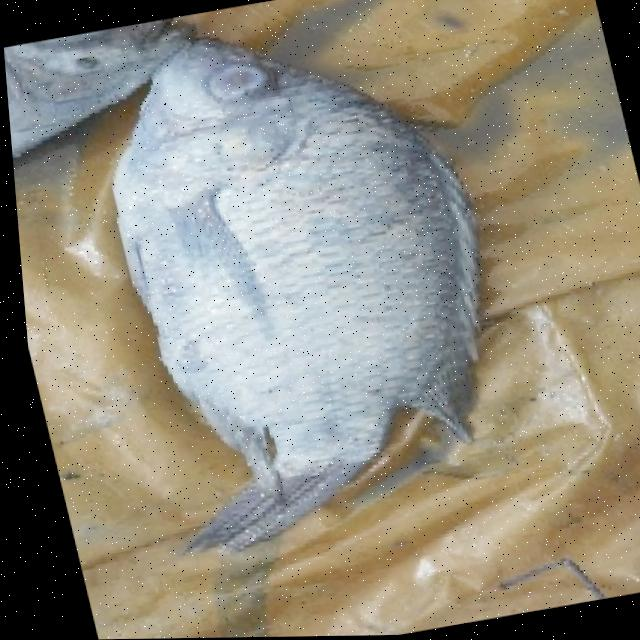Non-Fresh: (72, 4, 477, 458)
